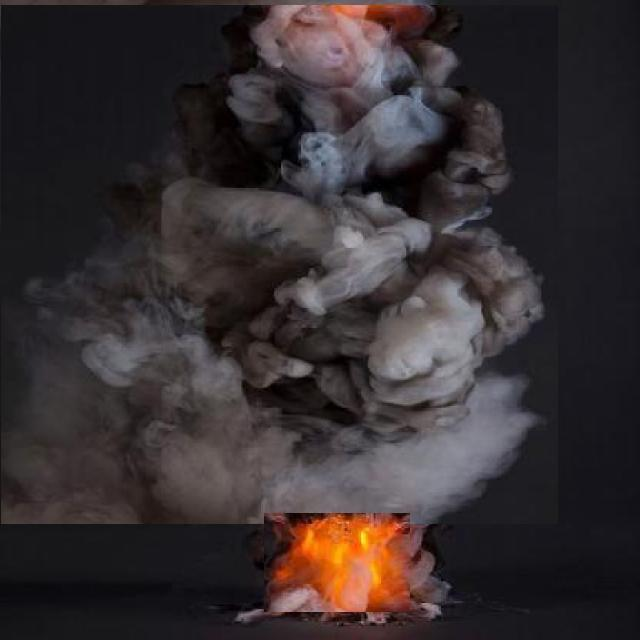Fire: (274, 513, 410, 611)
Smoke: (0, 1, 548, 524)
